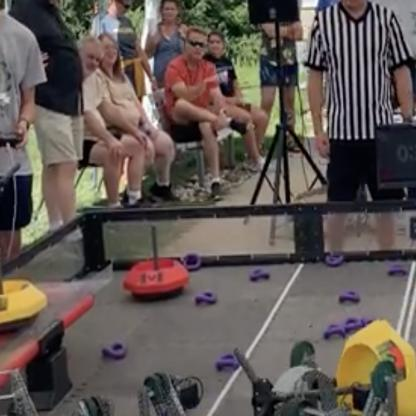ring: (101, 339, 128, 359), (215, 352, 239, 370), (324, 322, 345, 338), (194, 289, 216, 304), (338, 289, 360, 304), (183, 252, 201, 270), (343, 316, 362, 330), (249, 268, 269, 280), (324, 254, 343, 266), (387, 263, 406, 274)
